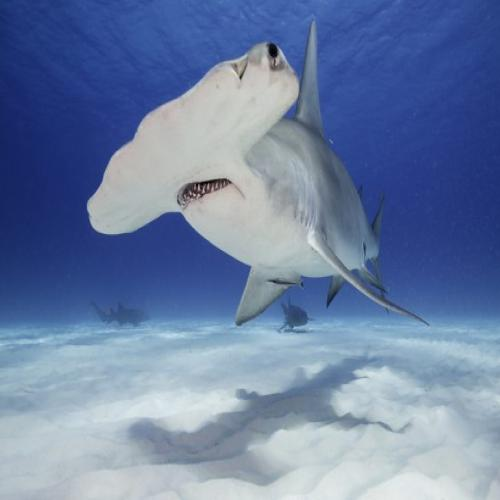shark-endangered: (88, 17, 430, 329)
